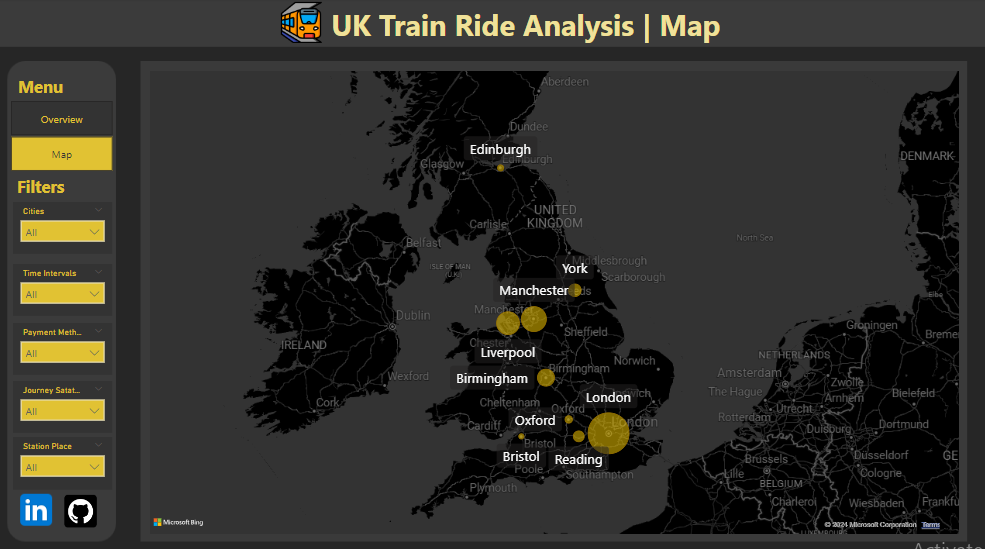

What the dashboard file says about the page in this screenshot:
{"tool":"powerbi","page":{"name":"Map","canvas":[1280,720],"ordinal":1},"visuals":[{"type":"map","fields":{"Category":["final_edited_data.Departure Station-City"],"Size":["final_edited_data.No.of Transaction"]},"box":[194.2,89.3,1054.4,606.8],"z":0},{"type":"textbox","box":[317.3,3.6,766.1,70],"z":1000},{"type":"image","box":[354.7,0,80.8,62.7],"z":2000},{"type":"slicer","fields":{"Values":["final_edited_data.Purchase Time Interval"]},"box":[22.9,343.6,127.7,67.2],"z":3000},{"type":"slicer","fields":{"Values":["final_edited_data.Payment Method"]},"box":[22.9,419.2,127.7,67.2],"z":4000},{"type":"slicer","fields":{"Values":["final_edited_data.Journey Status"]},"box":[22.9,494.8,127.7,67.2],"z":5000},{"type":"slicer","fields":{"Values":["final_edited_data.Arrival Station - City"]},"box":[22.9,263,127.7,67.2],"z":6000},{"type":"textbox","box":[22.9,223,127.7,48.7],"z":7000},{"type":"textbox","box":[24.1,94.1,137.5,50.7],"z":8000},{"type":"pageNavigator","box":[20.5,132.7,131.5,91.7],"z":9000},{"type":"slicer","fields":{"Values":["final_edited_data.Departure Station-Place"]},"box":[22.9,567,127.9,67.6],"z":10000},{"type":"image","box":[77.2,635.8,65.1,51.9],"z":11000},{"type":"image","box":[20.5,626.1,65.1,68.8],"z":12000}]}

Visuals, with their boxes on the page's 1280x720 design canvas (x1, y1, x2, y2). These are canvas units, not pixel positions in the 985x549 screenshot, which may show the page scaled, cropped or inside an application window:
map - final_edited_data.Departure Station-City x final_edited_data.No.of Transaction: <box>194,89,1249,696</box>
textbox: <box>317,4,1083,74</box>
image: <box>355,0,436,63</box>
slicer - final_edited_data.Purchase Time Interval: <box>23,344,151,411</box>
slicer - final_edited_data.Payment Method: <box>23,419,151,486</box>
slicer - final_edited_data.Journey Status: <box>23,495,151,562</box>
slicer - final_edited_data.Arrival Station - City: <box>23,263,151,330</box>
textbox: <box>23,223,151,272</box>
textbox: <box>24,94,162,145</box>
pageNavigator: <box>20,133,152,224</box>
slicer - final_edited_data.Departure Station-Place: <box>23,567,151,635</box>
image: <box>77,636,142,688</box>
image: <box>20,626,86,695</box>
